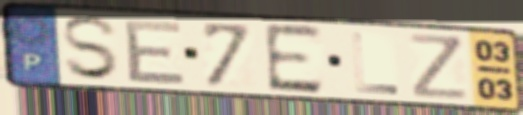7: (200, 20, 256, 90)
E: (261, 21, 326, 96), (122, 18, 190, 86)
L: (349, 30, 403, 97)
S: (59, 15, 123, 83)
Z: (406, 32, 472, 103)
